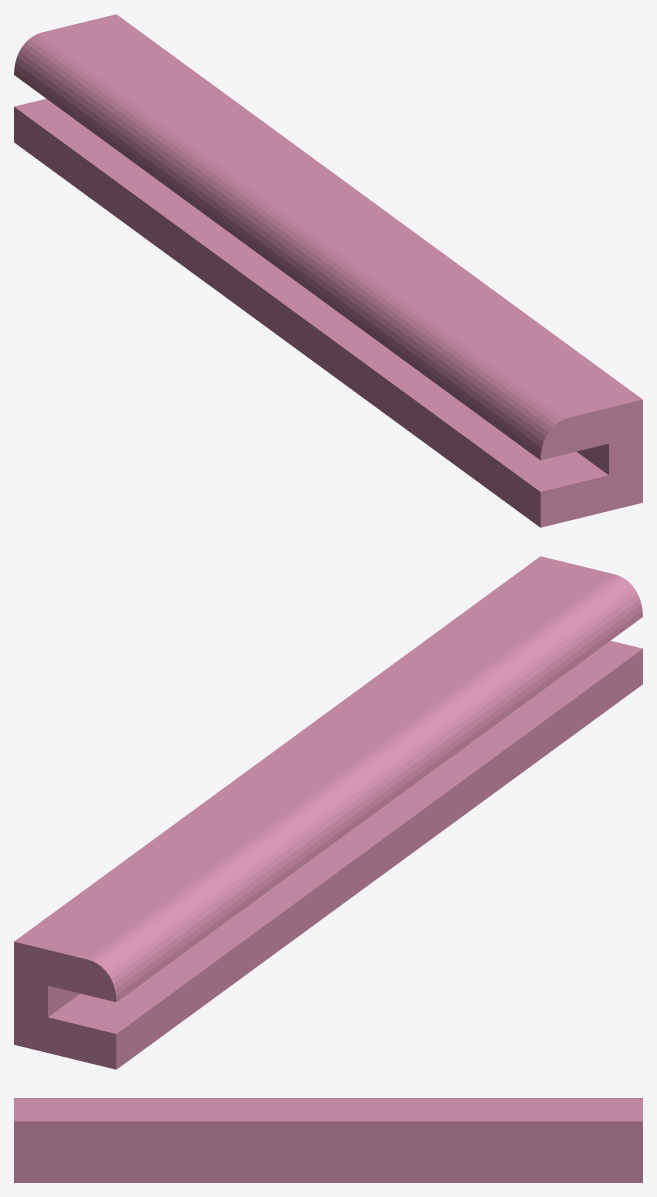
The model's file is Cubes Drawer.glb.
The picture shows the model from 3 angles, top to bottom: view 1: azimuth 30°, elevation 25°; view 2: azimuth 150°, elevation 25°; view 3: azimuth 270°, elevation 25°; orthographic projection. The views are drawn at different scales.
Parts seen in each view (by area): view 1: Mesh_Mesh_head_geo.001_lambert2SG.001; view 2: Mesh_Mesh_head_geo.001_lambert2SG.001; view 3: Mesh_Mesh_head_geo.001_lambert2SG.001.
Part boxes in pixels (x1=…): Mesh_Mesh_head_geo.001_lambert2SG.001: x1=14, y1=14, x2=642, y2=527; Mesh_Mesh_head_geo.001_lambert2SG.001: x1=14, y1=556, x2=642, y2=1069; Mesh_Mesh_head_geo.001_lambert2SG.001: x1=14, y1=1098, x2=642, y2=1182.
Size of the model in its own units: 9 by 8.66 by 80.09.
